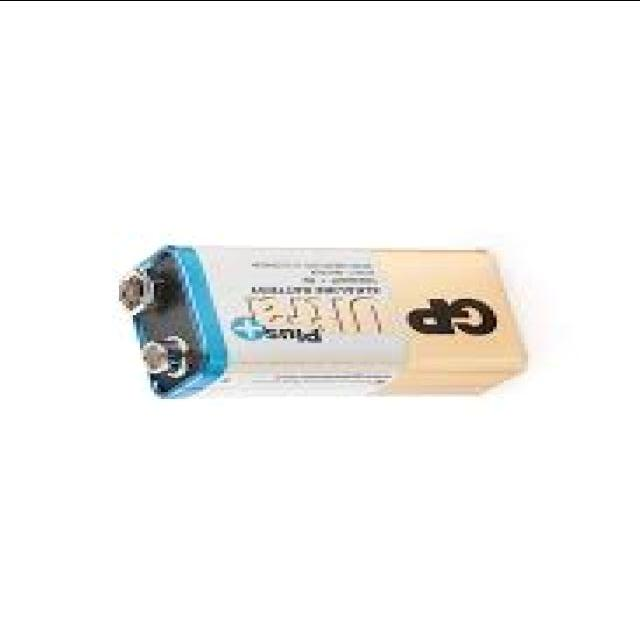9V: (122, 247, 518, 396)
